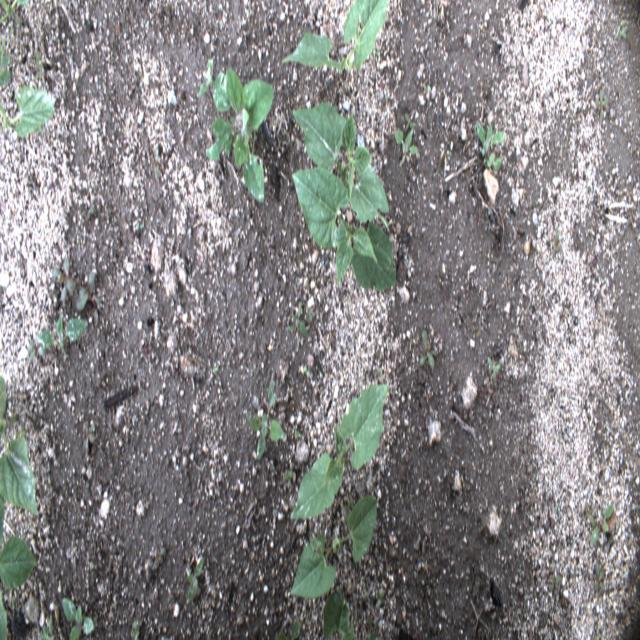crop: (290, 383, 388, 521), (290, 167, 397, 291), (291, 102, 389, 223), (288, 496, 378, 598), (281, 0, 390, 73), (0, 367, 39, 546), (0, 79, 57, 141), (0, 530, 39, 597), (318, 588, 357, 639)
weed: (207, 68, 276, 208), (247, 402, 291, 464), (53, 592, 98, 638), (54, 313, 92, 348), (186, 546, 205, 610), (72, 268, 99, 309), (417, 318, 437, 373), (53, 256, 76, 302), (192, 55, 214, 103), (286, 300, 311, 342), (392, 123, 422, 158), (22, 330, 53, 363), (476, 119, 506, 151), (77, 416, 100, 451), (485, 348, 506, 385), (597, 499, 616, 538), (149, 541, 168, 577), (86, 177, 100, 224), (583, 503, 599, 544), (1, 1, 27, 26), (594, 86, 608, 125), (2, 37, 12, 89), (592, 566, 608, 598), (32, 48, 47, 82), (280, 613, 302, 635), (545, 574, 566, 597), (486, 153, 506, 175), (373, 582, 386, 614), (37, 618, 57, 638), (154, 133, 162, 183), (0, 600, 10, 636), (128, 613, 142, 637), (616, 16, 628, 44), (133, 213, 145, 240), (267, 380, 277, 409), (419, 78, 435, 96), (283, 468, 294, 491), (26, 175, 36, 198), (209, 357, 221, 376), (550, 497, 562, 516), (552, 230, 560, 258), (403, 104, 415, 122), (302, 359, 312, 378), (307, 306, 316, 327), (360, 588, 371, 604), (146, 12, 152, 37), (293, 428, 302, 442)
